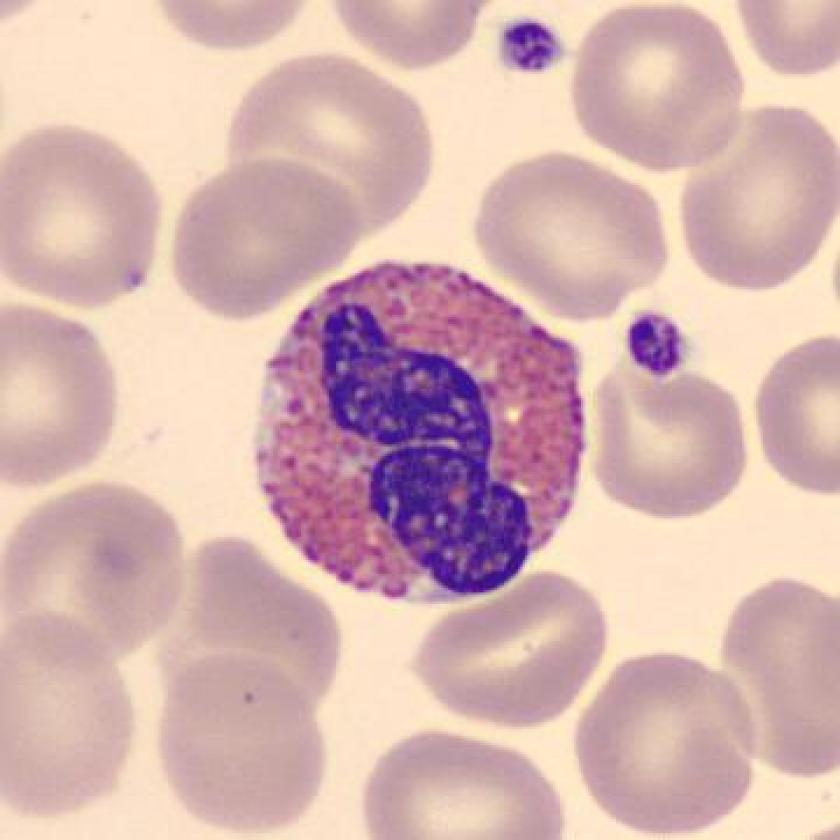eosinophil: (244, 244, 598, 621)
